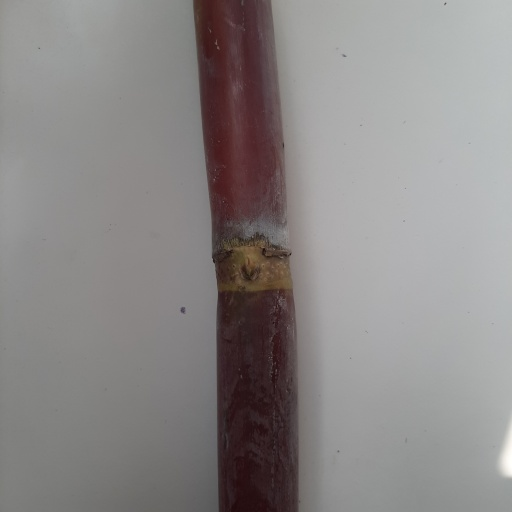Bud: (237, 256, 262, 283)
